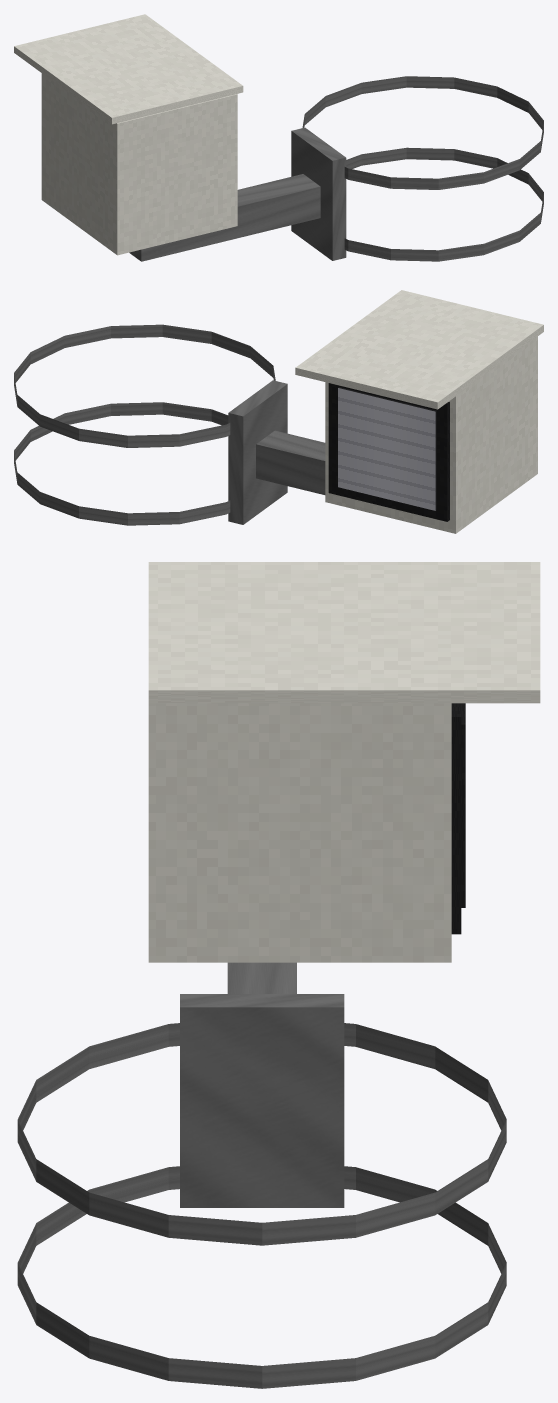
Rendered from flash_unit_side_right.obj.
The picture shows the model from 3 angles, top to bottom: view 1: azimuth 30°, elevation 25°; view 2: azimuth 150°, elevation 25°; view 3: azimuth 270°, elevation 25°; orthographic projection. The views are drawn at different scales.
Visible parts, largest first — view 1: flash_unit_side_right; view 2: flash_unit_side_right; view 3: flash_unit_side_right.
Boxes of the visible parts, x1,y1,x2,y2 form: flash_unit_side_right: (14,14,543,261); flash_unit_side_right: (14,290,543,533); flash_unit_side_right: (17,562,540,1388).
Size of the model in its own units: 1.63 by 0.715 by 0.827.
